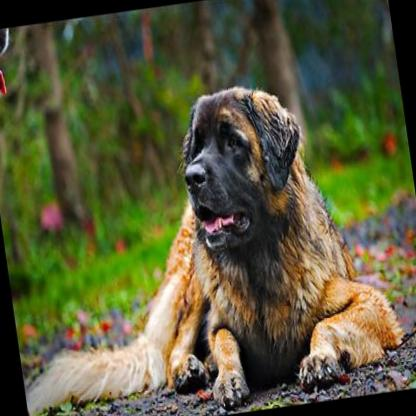Leonberg: (0, 68, 407, 416)
